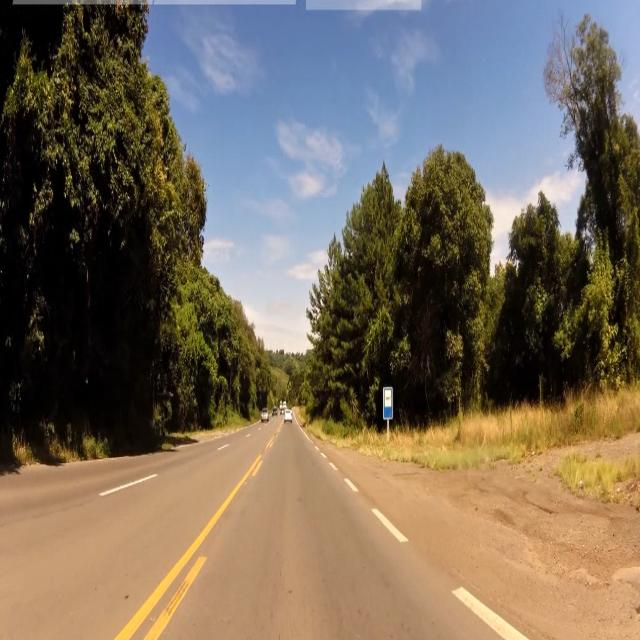S-14: (381, 385, 394, 422)
